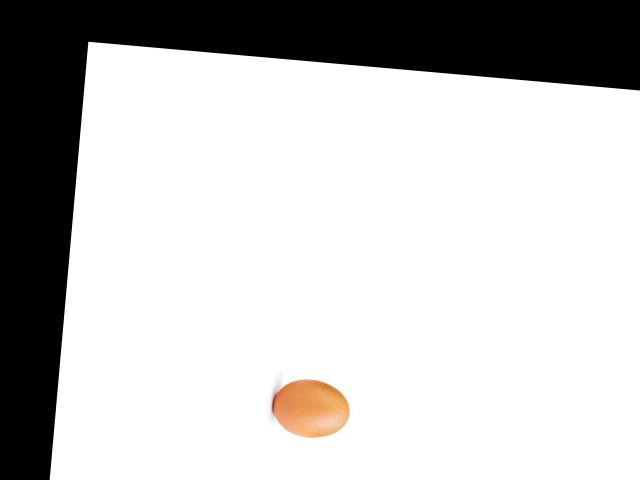egg: (271, 376, 351, 440)
